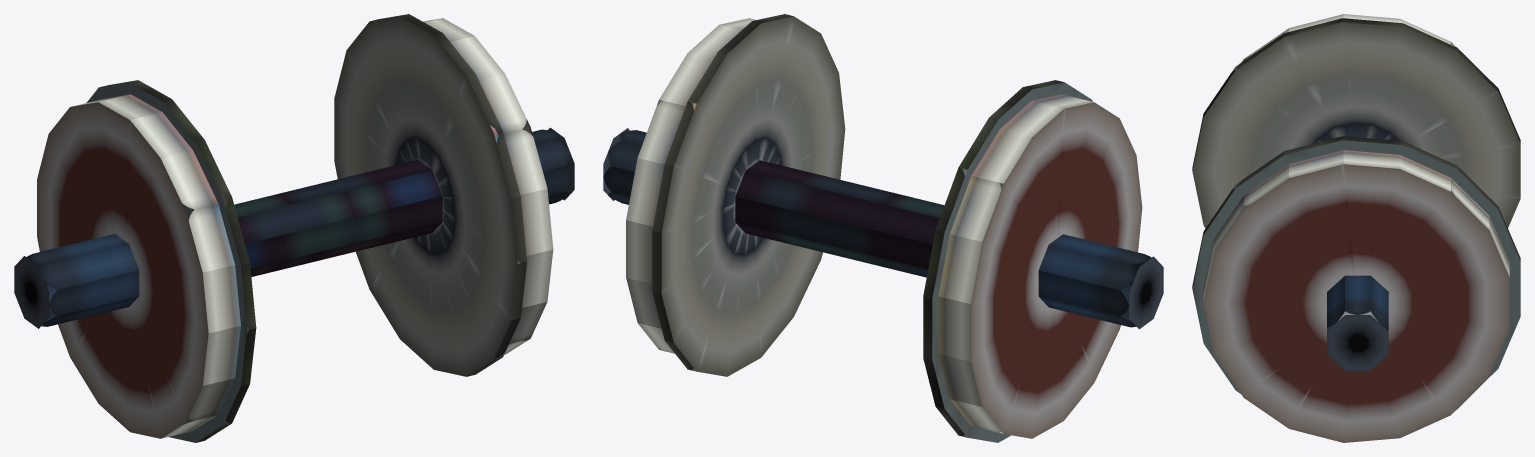
The model's file is df21_wheel.obj.
The picture shows the model from 3 angles, left to right: view 1: azimuth 30°, elevation 25°; view 2: azimuth 150°, elevation 25°; view 3: azimuth 270°, elevation 25°; orthographic projection. The views are drawn at different scales.
Visible parts, largest first — view 1: cylinder_selection_selection_selection_selection_selection; view 2: cylinder_selection_selection_selection_selection_selection; view 3: cylinder_selection_selection_selection_selection_selection.
Part boxes in pixels (x1=…): cylinder_selection_selection_selection_selection_selection: x1=14, y1=14, x2=574, y2=442; cylinder_selection_selection_selection_selection_selection: x1=603, y1=14, x2=1163, y2=442; cylinder_selection_selection_selection_selection_selection: x1=1192, y1=14, x2=1520, y2=442.
Size of the model in its own units: 1.88 by 1.14 by 1.13.
